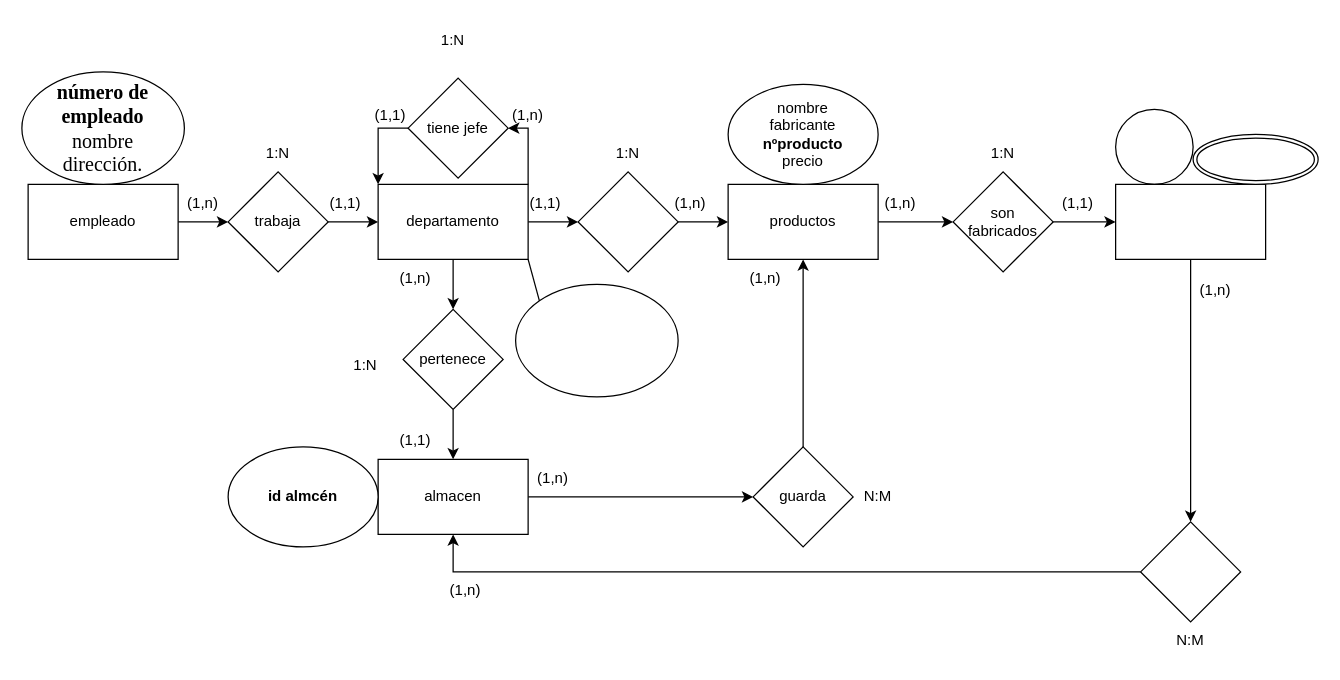
The diagram is 1340 pixels wide and 680 high, and some of its shapes have lost their labels. The shapes that lost their labels are listed below. From the top down, each one's box as (x1, y1, x2, y2) in pixels, then its label:
(1114, 108, 1193, 184): nombre direccion
(1192, 133, 1318, 184): telefono
(577, 171, 678, 272): vende
(1114, 183, 1266, 259): fabricantes
(514, 283, 678, 397): nombre departamento nº departamento
(1139, 521, 1241, 622): suminitra
